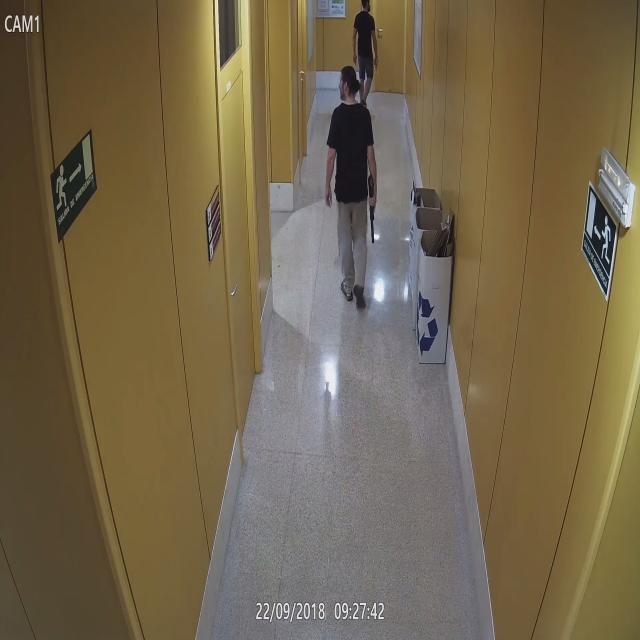Gun: (367, 170, 391, 247)
